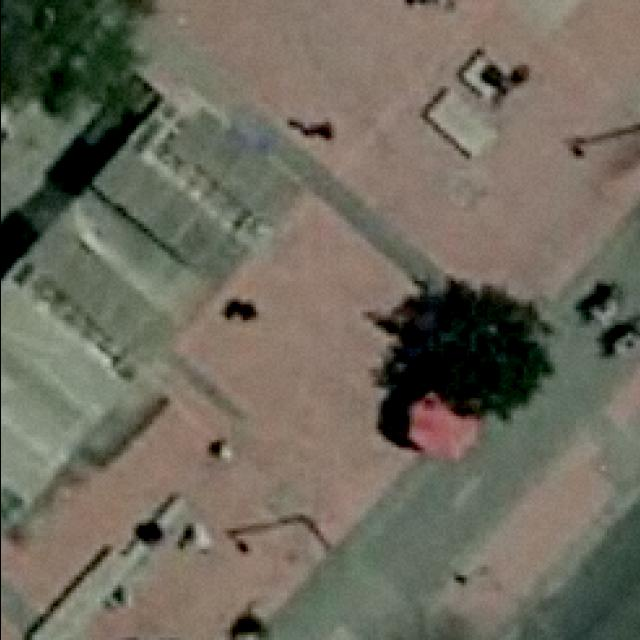vendedor_ambulante: (397, 392, 481, 466)
